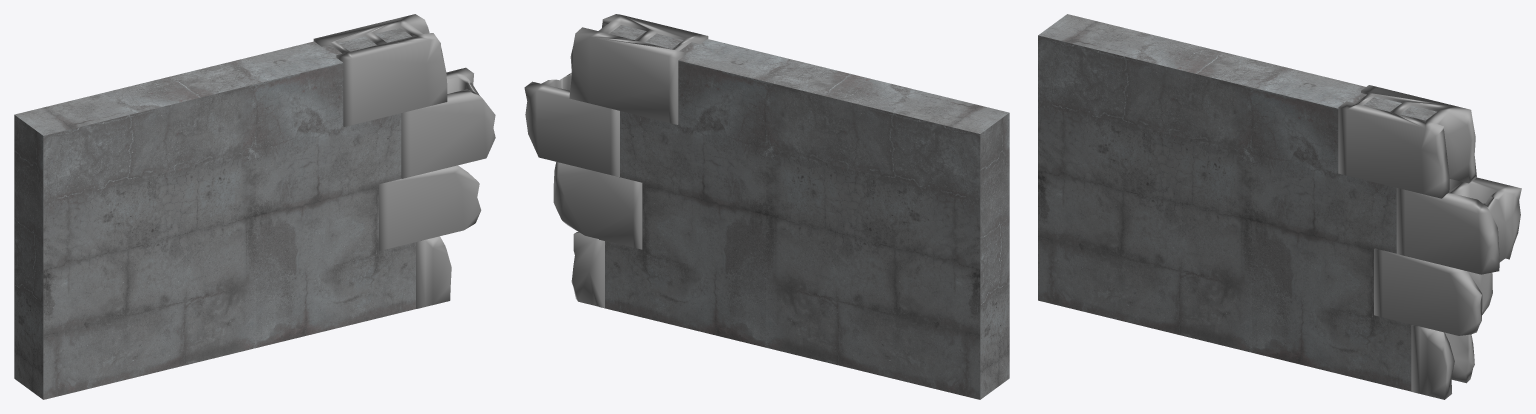
Rendered from wall_Top_Broken_01.fbx.
The picture shows the model from 3 angles, left to right: view 1: azimuth 30°, elevation 25°; view 2: azimuth 150°, elevation 25°; view 3: azimuth 330°, elevation 25°; orthographic projection.
Parts seen in each view (by area): view 1: wall_Top_Broken_01; view 2: wall_Top_Broken_01; view 3: wall_Top_Broken_01.
Boxes of the visible parts, bbox=[...] form: wall_Top_Broken_01: bbox=[14, 14, 495, 399]; wall_Top_Broken_01: bbox=[524, 14, 1009, 399]; wall_Top_Broken_01: bbox=[1038, 14, 1521, 399].
Bounding box in the file's own units: 179 × 101 × 20.94.
Materials: 2 (1 with a texture image).
